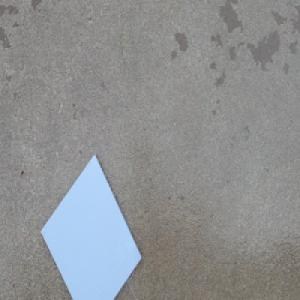PaintChip: (40, 154, 142, 300)
